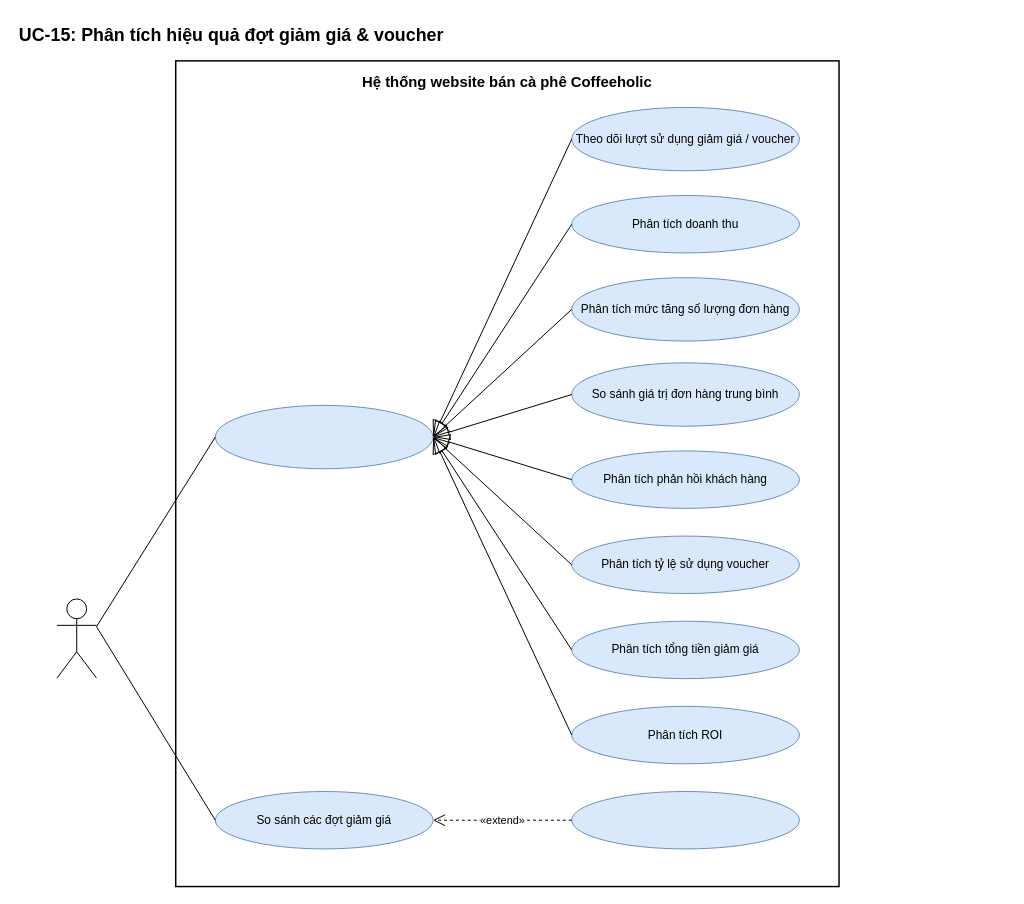
The diagram is 1024 pixels wide and 904 high, and some of its shapes have lost their labels. The shapes that lost their labels are listed below. From the top down, each one's box as (x1, y1, x2, y2) in pixels, then its label:
(214, 404, 433, 469): Phân tích hiệu quả đợt giảm giá & voucher
(56, 598, 97, 678): Quản lý
(571, 791, 799, 849): Lập báo cáo
